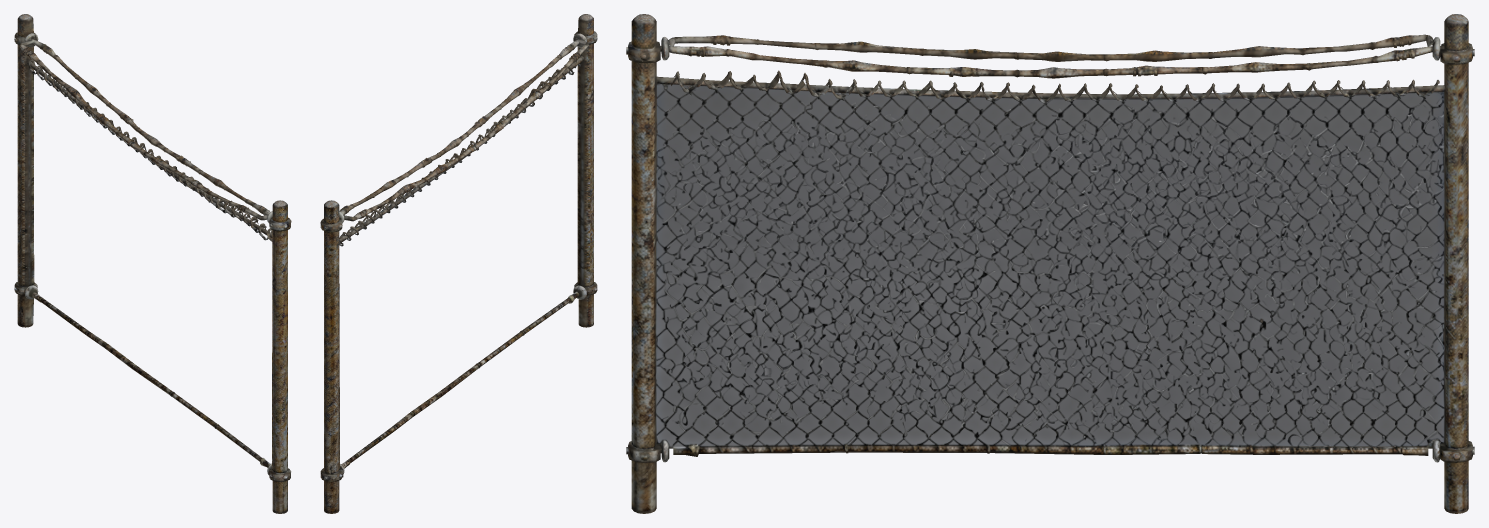
The model's file is jt_7dbe901d-65de-46da-b90e-f87f2bf23433.glb.
The picture shows the model from 3 angles, left to right: view 1: azimuth 30°, elevation 25°; view 2: azimuth 150°, elevation 25°; view 3: azimuth 270°, elevation 25°; orthographic projection. The views are drawn at different scales.
Parts seen in each view (by area): view 1: tripo_7b85cd15_a0d4_4093_b56b_9c2e455cdc38; view 2: tripo_7b85cd15_a0d4_4093_b56b_9c2e455cdc38; view 3: tripo_7b85cd15_a0d4_4093_b56b_9c2e455cdc38.
Boxes of the visible parts, x1=… form: tripo_7b85cd15_a0d4_4093_b56b_9c2e455cdc38: x1=14, y1=14, x2=291, y2=513; tripo_7b85cd15_a0d4_4093_b56b_9c2e455cdc38: x1=320, y1=14, x2=597, y2=513; tripo_7b85cd15_a0d4_4093_b56b_9c2e455cdc38: x1=626, y1=14, x2=1474, y2=513.
Size of the model in its own units: 0.0659 by 0.6401 by 0.9995.
Materials: 1 (1 with a texture image).
